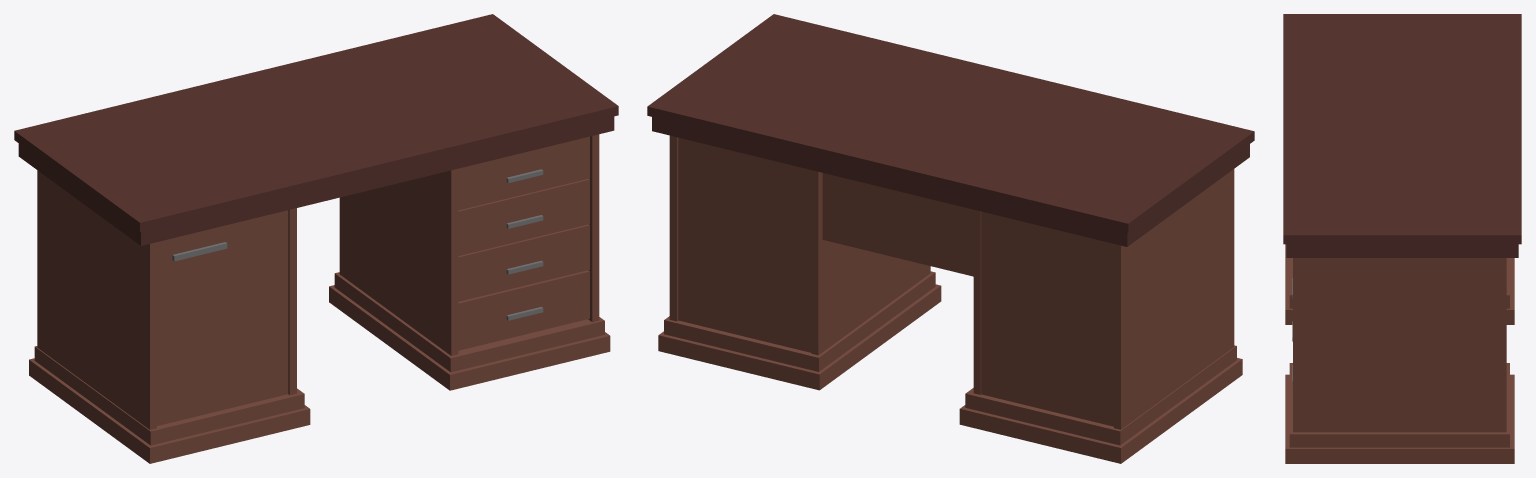
The model's file is office_table_005.glb.
3 renders of one model, left to right at view 1: azimuth 30°, elevation 25°; view 2: azimuth 150°, elevation 25°; view 3: azimuth 270°, elevation 25°, orthographic. The views are drawn at different scales.
Visible parts, largest first — view 1: office_table_005; view 2: office_table_005; view 3: office_table_005.
Boxes of the visible parts, x1=… form: office_table_005: x1=14, y1=14, x2=618, y2=463; office_table_005: x1=647, y1=14, x2=1254, y2=463; office_table_005: x1=1283, y1=14, x2=1521, y2=463.
Bounding box in the file's own units: 1.49 × 0.7257 × 0.677.
1 material, 1 textured.
